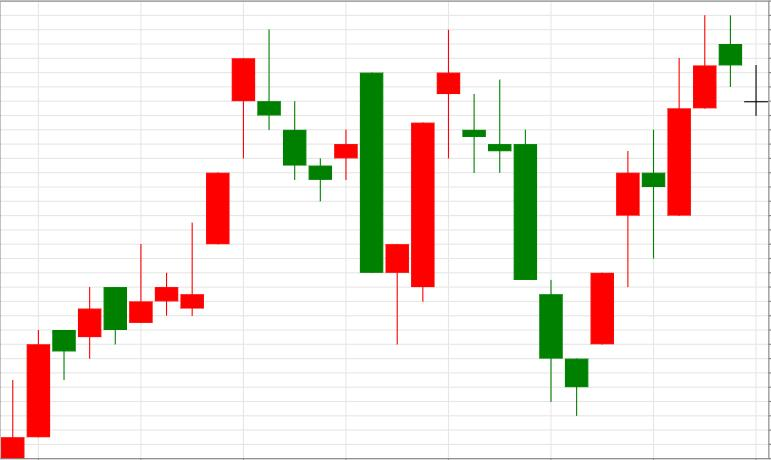hammer_rise: (257, 29, 409, 345)
hanging_man_fall: (129, 58, 255, 324)
